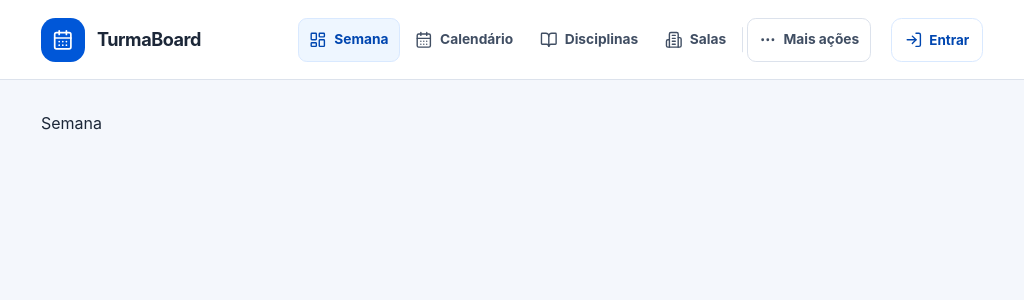
Test: AppShell › links the GitHub icon directly to the TurmaBoard repository
Click the button "Mais ações": (809, 40) [747,18,871,62]
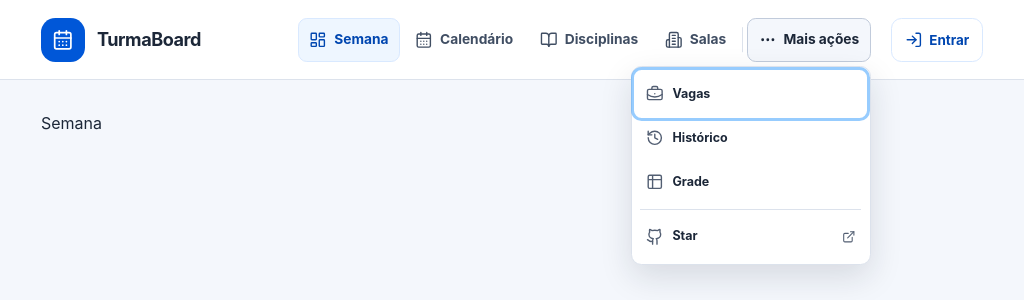
Expected: the link with aria-label "Dar uma estrela no TurmaBoard no GitHub" reads "Star", [646,228,855,246]
